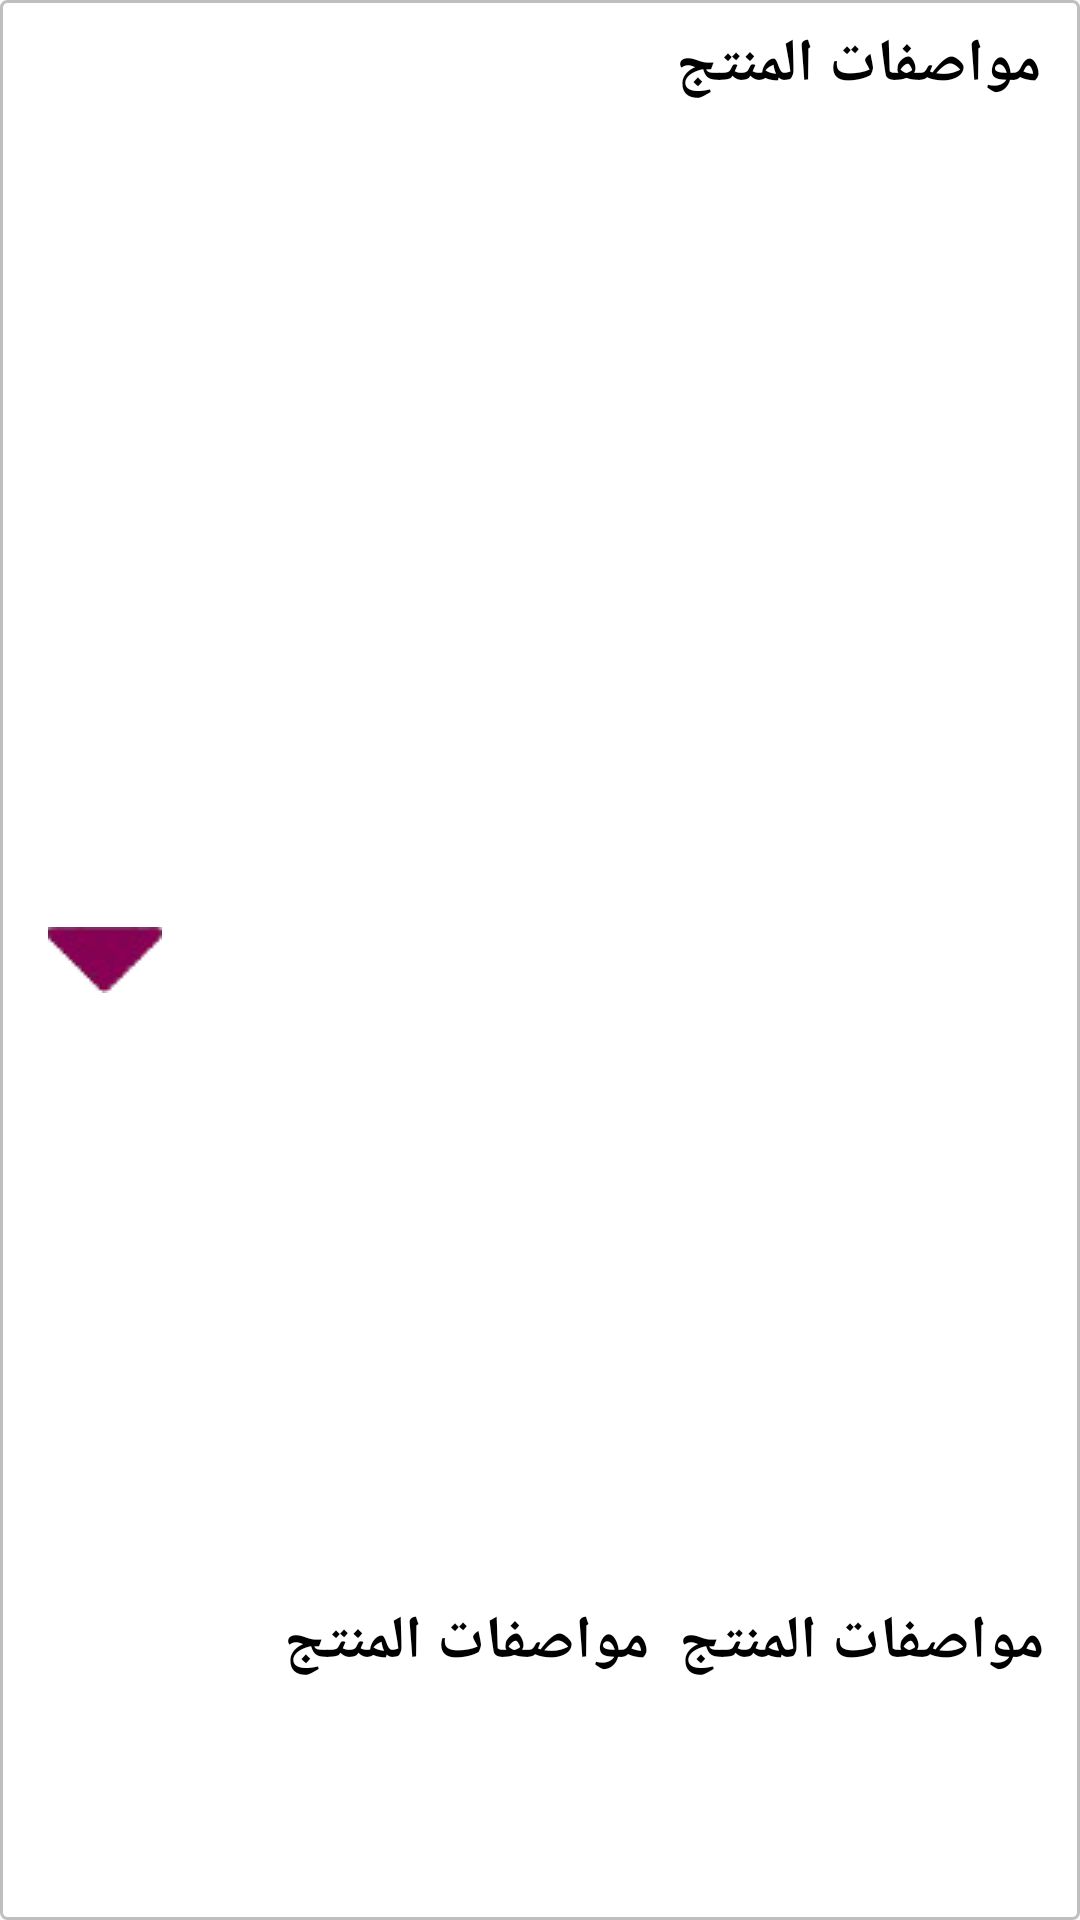

Screen size 1080w x 1920h. Icon name, then its center in pixels as (x=x, y=y):
down arrow: (x=105, y=960)
